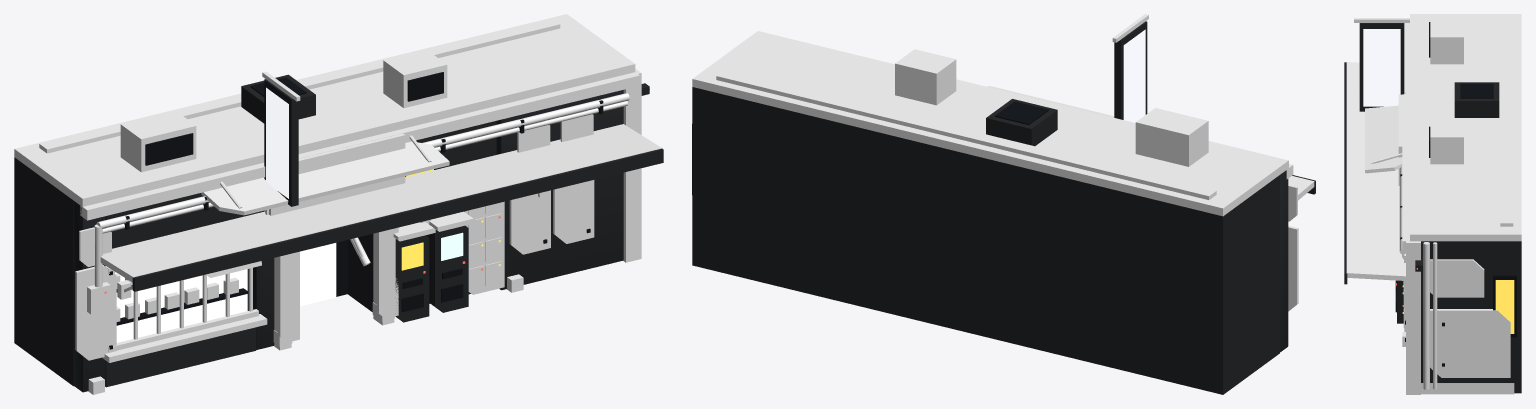
File: storefront.gltf
3 views of the same model, side by side, from view 1: azimuth 30°, elevation 25°; view 2: azimuth 150°, elevation 25°; view 3: azimuth 270°, elevation 25° (orthographic). The views are drawn at different scales.
Visible parts, largest first — view 1: steel, graphite, olive, titanium, interior, dark, blade, hazard, detail_olive, detail_dark, detail_titanium, glow_amber; view 2: graphite, steel, titanium, blade, olive, detail_dark; view 3: steel, titanium, graphite, olive, blade, hazard, glow_amber, dark, detail_dark.
Boxes of the visible parts, x1,y1,x2,y2 form: steel: (14,14,662,394); graphite: (14,74,663,392); olive: (75,141,594,360); titanium: (79,49,593,342); interior: (105,243,336,342); dark: (116,72,463,325); blade: (266,87,288,198); hazard: (102,101,627,346); detail_olive: (115,273,238,321); detail_dark: (109,77,603,349); detail_titanium: (125,278,218,319); glow_amber: (401,169,433,270); graphite: (692,21,1315,394); steel: (692,14,1314,216); titanium: (895,49,1297,221); blade: (1123,29,1145,122); olive: (987,85,1298,311); detail_dark: (995,101,1048,124); steel: (1346,14,1521,394); titanium: (1404,15,1510,377); graphite: (1344,23,1521,393); olive: (1365,105,1484,327); blade: (1363,29,1400,106); hazard: (1402,253,1514,394); glow_amber: (1495,280,1514,333); dark: (1395,22,1516,337); detail_dark: (1400,83,1493,366).
Bounding box in the file's own units: 14.67 × 6.7 × 4.76.
